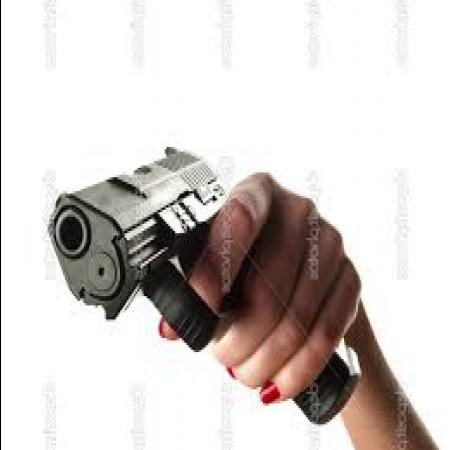Pistol: (36, 144, 362, 420)
